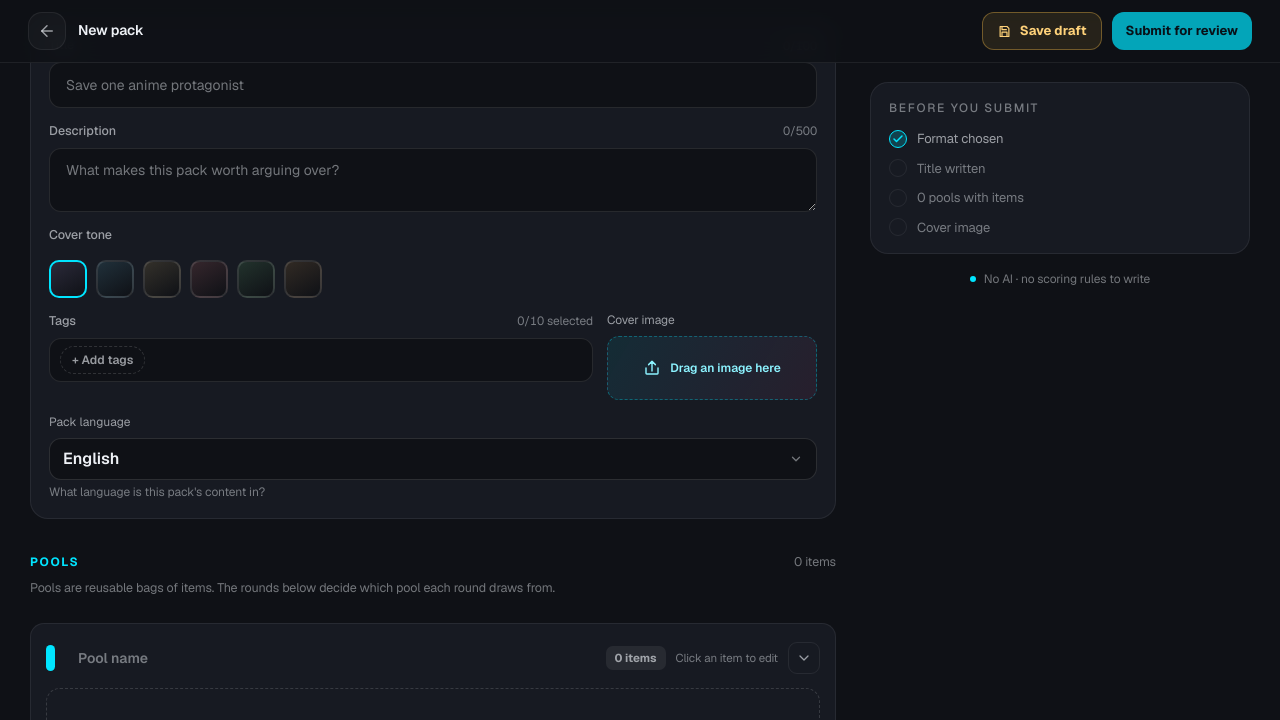
Test: CreatePackForm › opens the tag picker modal and reflects the selected count next to the label
The image size is (1280, 720).
(page scrolled)
Expected: the field labelled "Title" is shown, 49,62 -> 817,108
Click the button "+ Add tags" at (103, 360), box 60,346 -> 145,374
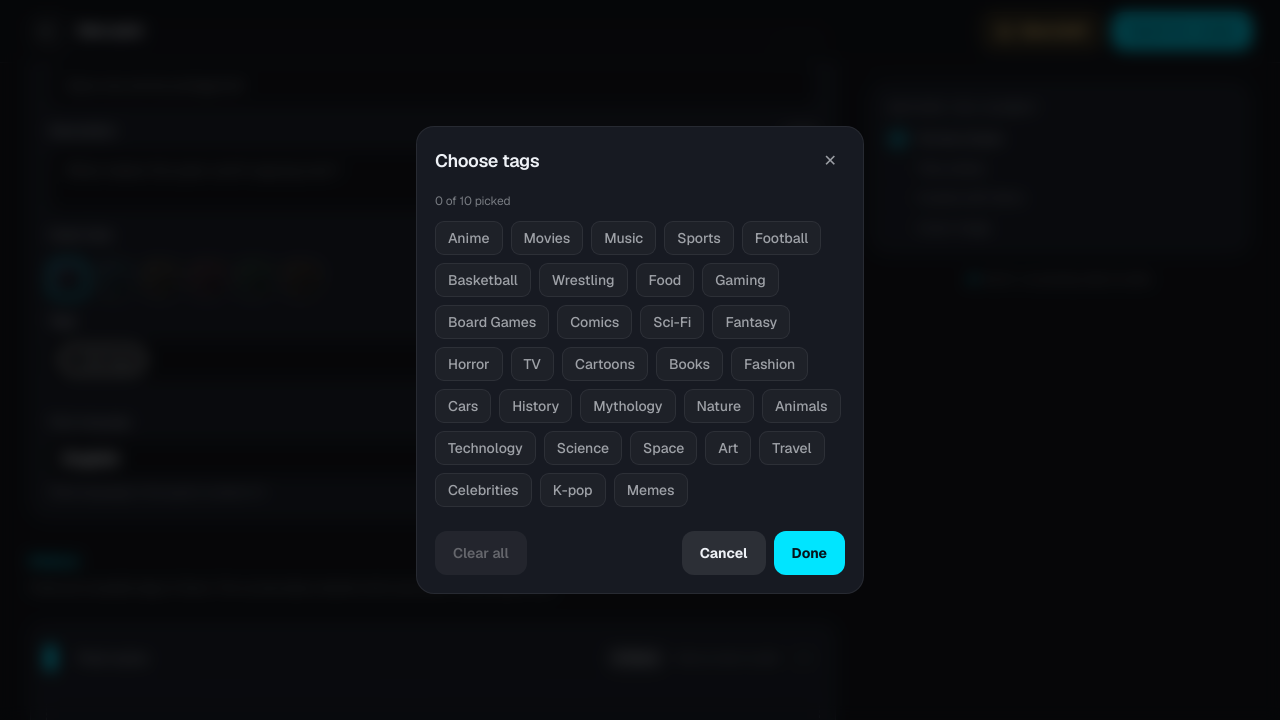
Click the checkbox labelled "Anime" at (469, 238), box 435,221 -> 502,255
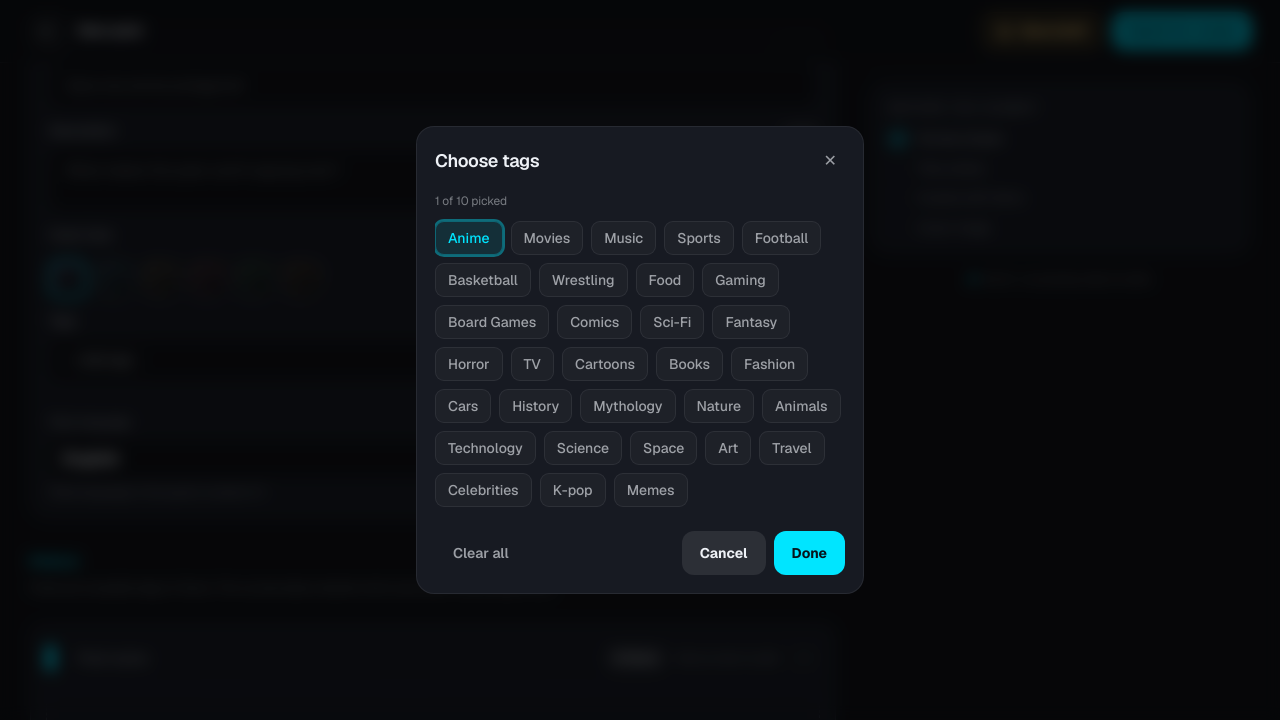
Click the checkbox labelled "Music" at (624, 238), box 591,221 -> 656,255
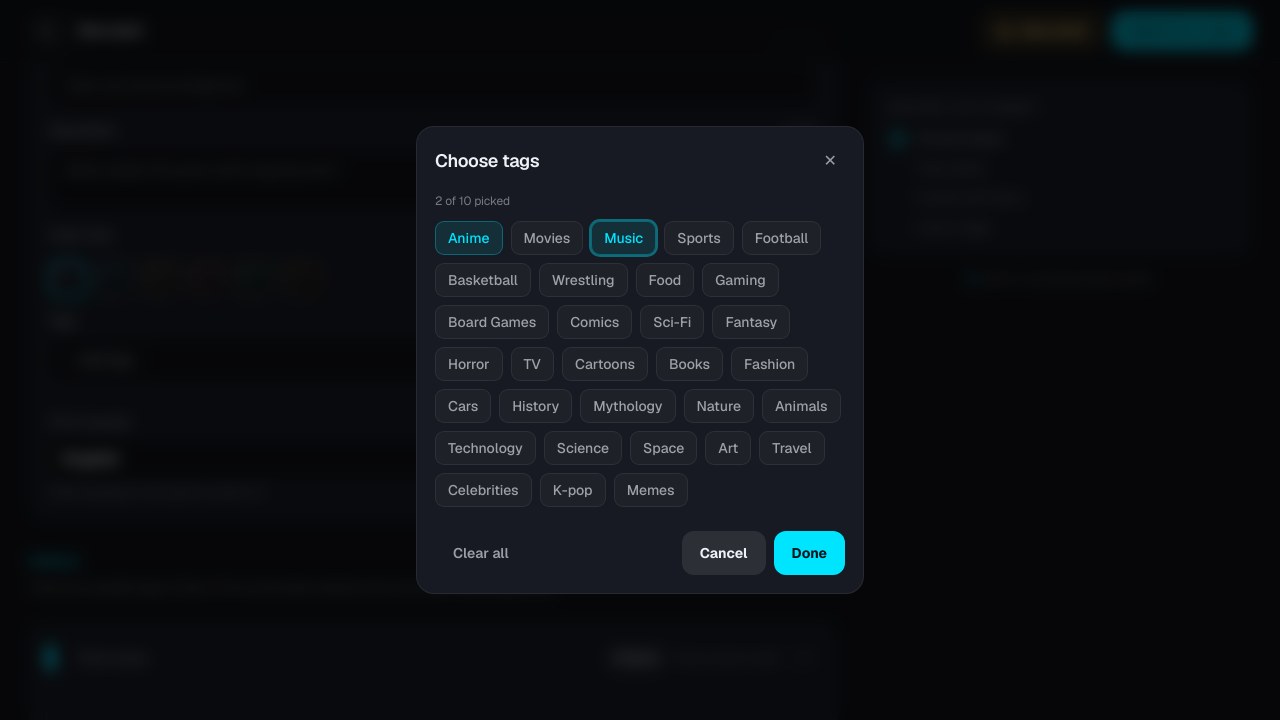
Click the button "Done" at (809, 553), box 774,531 -> 845,575
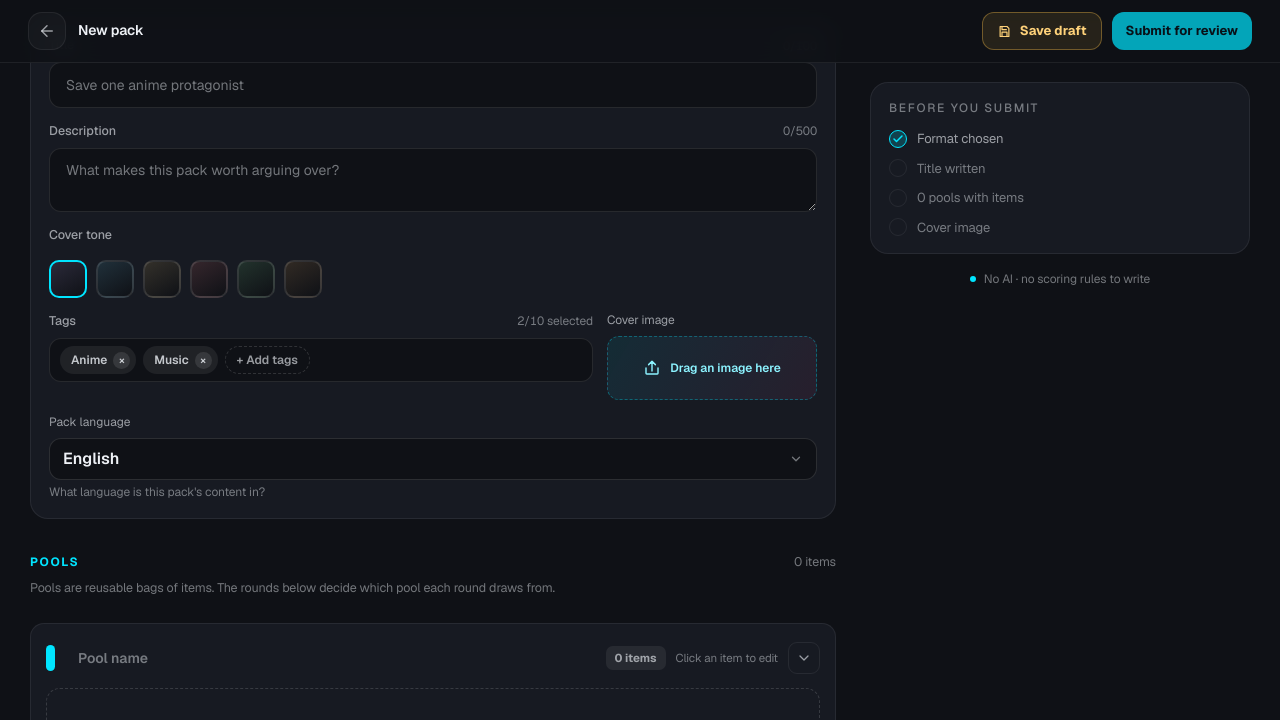
Now the text "2/10 selected" is shown, box 517,313 -> 593,329
